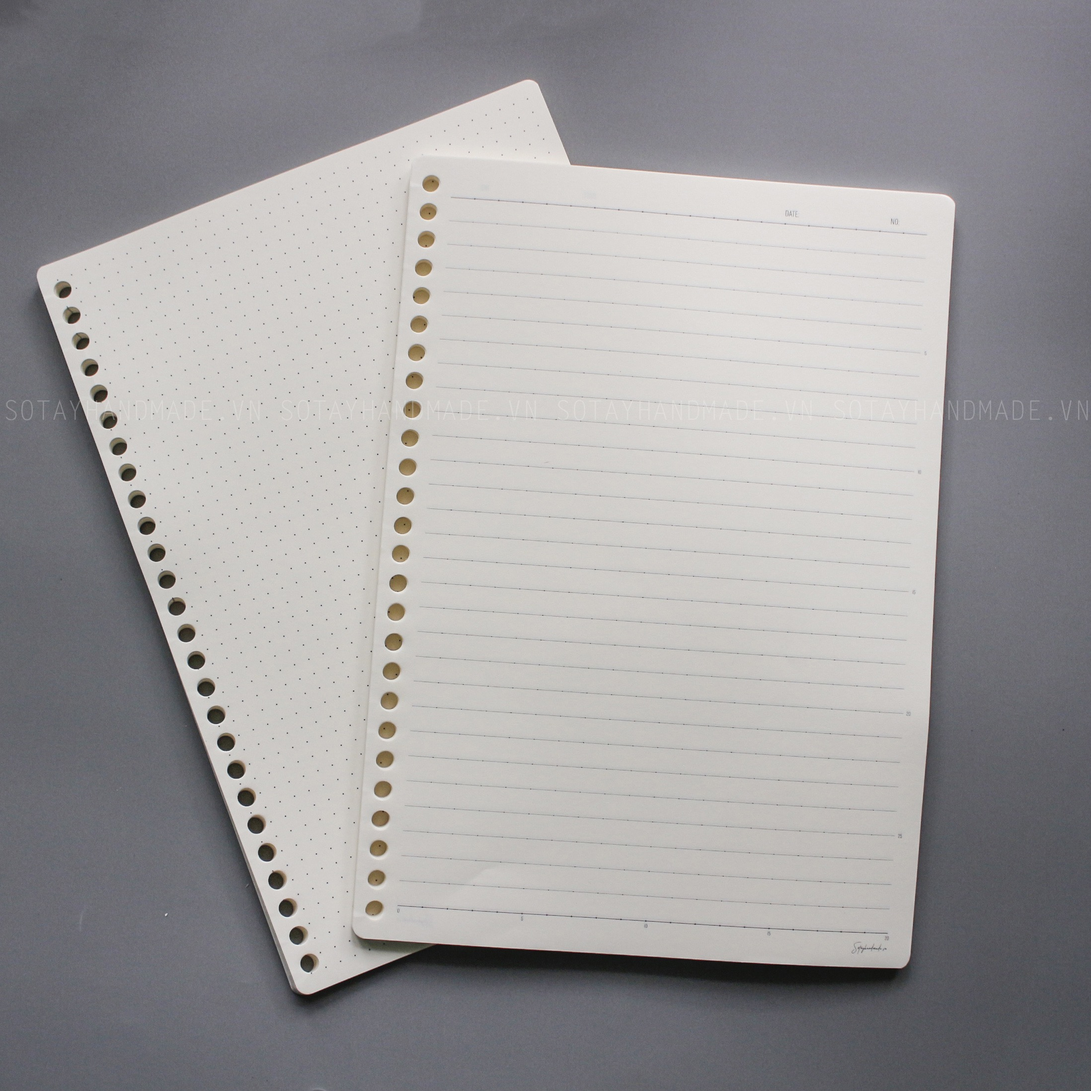paper: (33, 75, 963, 1000)
